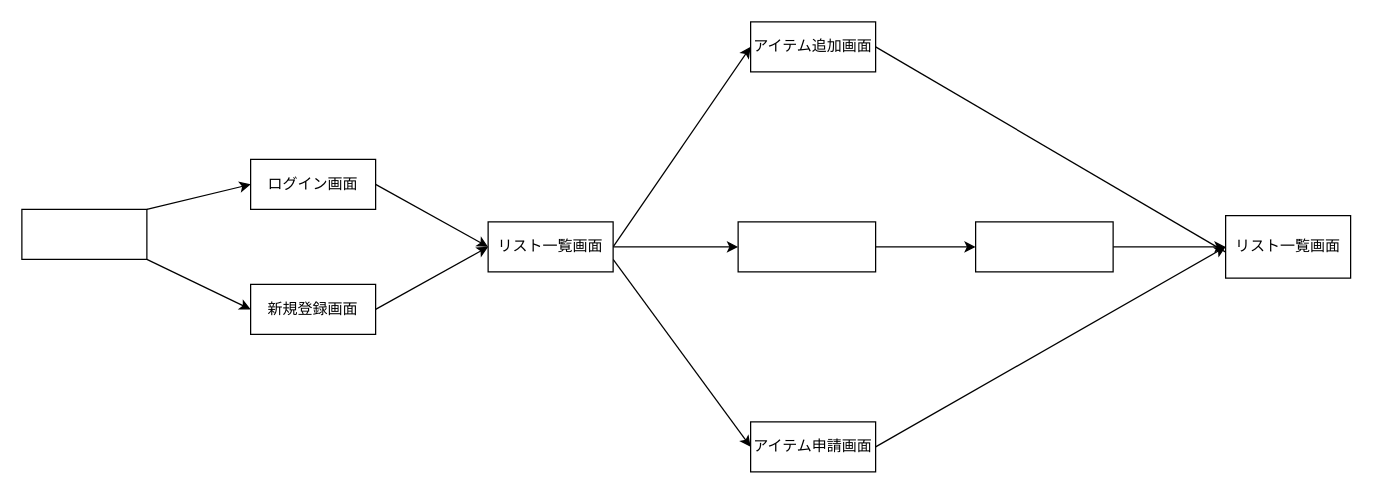
Some shapes in this 1373 by 494 pixel diagram are drawn without their labels. The shapes that lost their labels are listed below. From the top down, each one's centre as x and y in pixels, then its label:
At point (84, 233): "スタートページ".
At point (806, 246): "アイテム詳細画面".
At point (1043, 246): "アイテム編集・削除".
